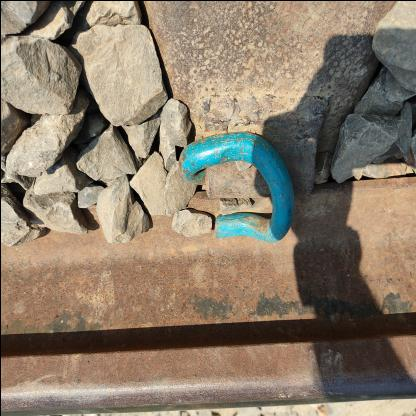Non Defective 1: (60, 123, 290, 321)
